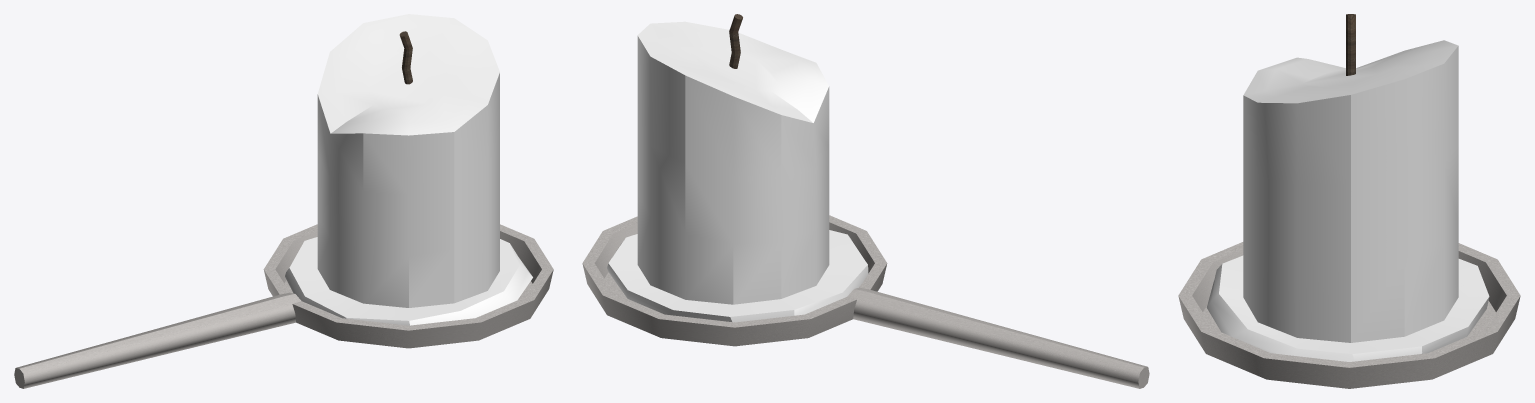
The model's file is Will_SelectCandle.glb.
3 views of the same model, side by side, from view 1: azimuth 30°, elevation 25°; view 2: azimuth 150°, elevation 25°; view 3: azimuth 270°, elevation 25° (orthographic). The views are drawn at different scales.
Parts seen in each view (by area): view 1: Cylinder.002, Cylinder.005, Plane; view 2: Cylinder.002, Cylinder.005, Plane; view 3: Cylinder.002, Cylinder.005, Plane.
Boxes of the visible parts, x1,y1,x2,y2 form: Cylinder.002: (285, 14, 532, 325); Cylinder.005: (14, 224, 553, 388); Plane: (399, 31, 412, 84); Cylinder.002: (607, 21, 868, 322); Cylinder.005: (582, 215, 1149, 388); Plane: (729, 14, 742, 68); Cylinder.002: (1206, 40, 1489, 361); Cylinder.005: (1178, 242, 1520, 388); Plane: (1346, 14, 1355, 75).
Size of the model in its own units: 1.82 by 0.8789 by 0.8862.
Materials: 3 (2 with a texture image).
